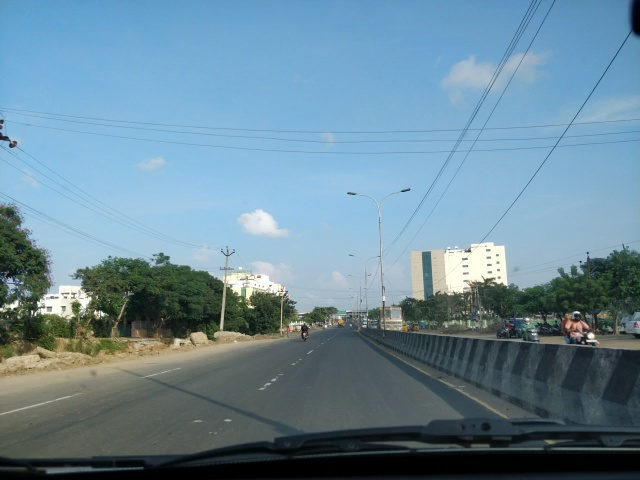bus: (366, 305, 405, 334)
motorbike: (561, 311, 600, 372), (516, 316, 543, 358), (300, 321, 309, 344)
person: (285, 322, 292, 341)
truck: (337, 318, 344, 328)
